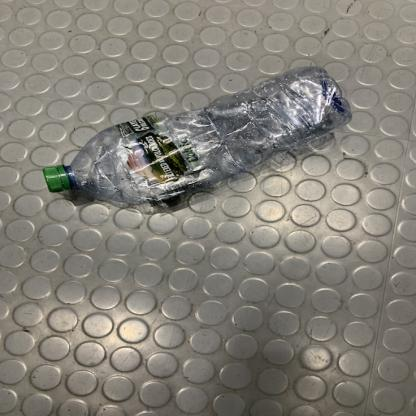trash: (43, 66, 352, 208)
